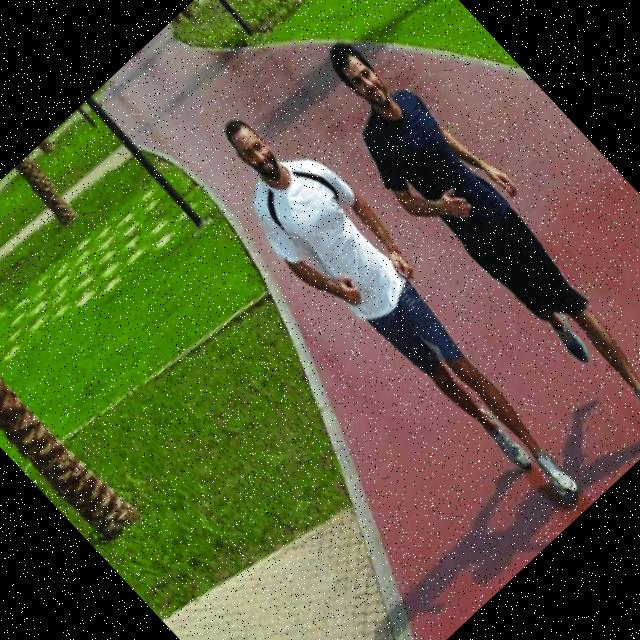Person: (189, 91, 608, 530), (290, 20, 640, 455)
